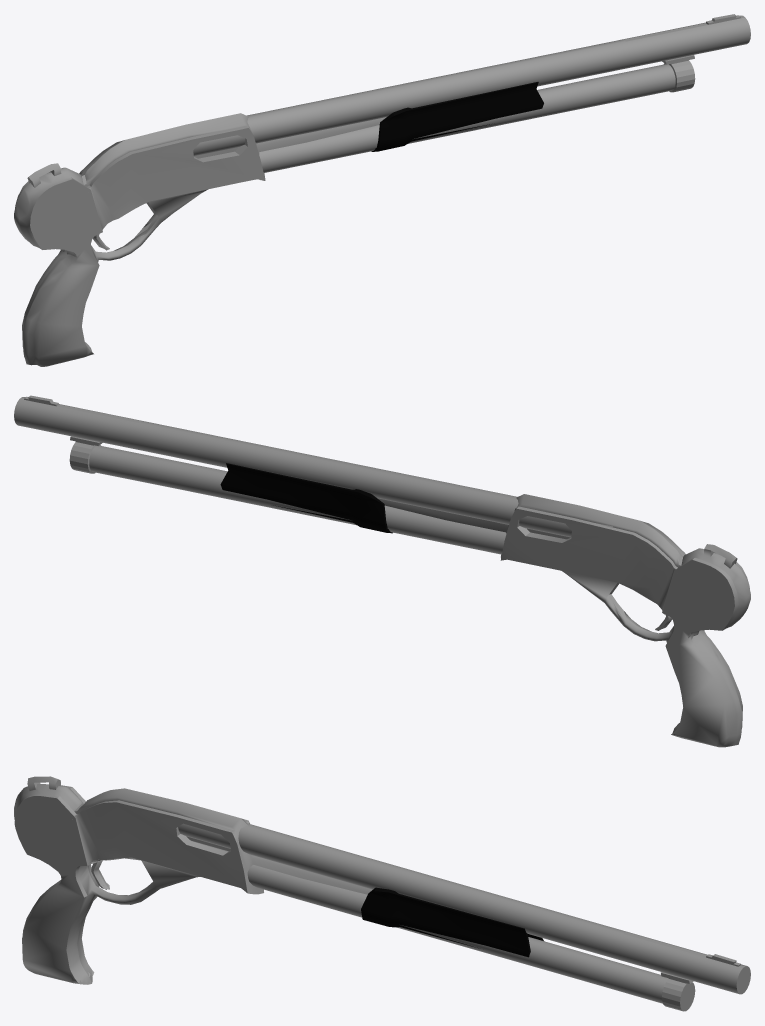
The model's file is shotgun.FBX.
3 renders of one model, top to bottom at view 1: azimuth 30°, elevation 25°; view 2: azimuth 150°, elevation 25°; view 3: azimuth 330°, elevation 25°, orthographic.
Visible parts, largest first — view 1: Line006, Cylinder001, Slide; view 2: Line006, Cylinder001, Slide; view 3: Line006, Cylinder001, Slide.
Part boxes in pixels (left/top/right/bottom): Line006: left=14, top=113, right=386, bottom=366; Cylinder001: left=193, top=14, right=750, bottom=172; Slide: left=371, top=82, right=543, bottom=151; Line006: left=377, top=494, right=750, bottom=747; Cylinder001: left=14, top=395, right=612, bottom=554; Slide: left=220, top=463, right=392, bottom=533; Line006: left=14, top=776, right=372, bottom=984; Cylinder001: left=178, top=823, right=750, bottom=1011; Slide: left=361, top=887, right=543, bottom=957.
Bounding box in the file's own units: 317 × 84.88 × 15.03.
Materials: 3 (1 with a texture image).
